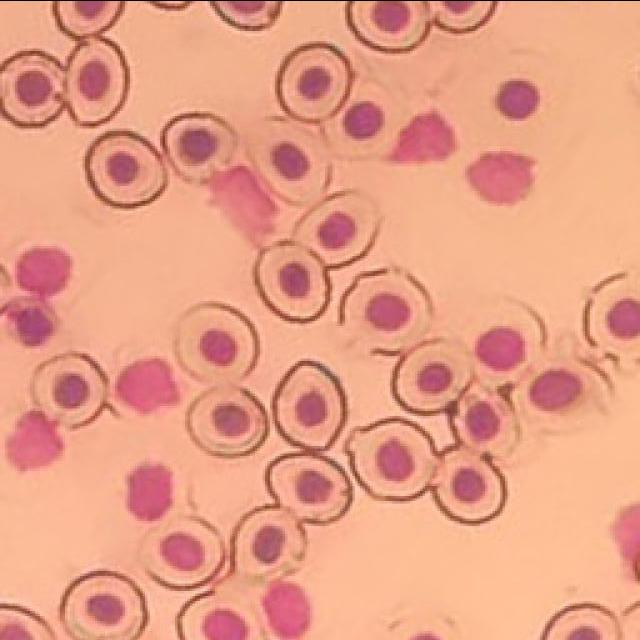RBC: (458, 48, 562, 148), (341, 268, 432, 350), (347, 419, 439, 500), (249, 119, 330, 204), (294, 190, 381, 268), (469, 299, 546, 386), (519, 358, 612, 430), (176, 302, 259, 380), (274, 360, 346, 449), (87, 130, 168, 208), (322, 80, 402, 158), (61, 570, 149, 640), (256, 240, 331, 321), (142, 516, 225, 589), (278, 42, 352, 121), (32, 352, 108, 428), (268, 454, 352, 522), (394, 339, 472, 412), (434, 446, 506, 524), (65, 38, 129, 125), (189, 388, 269, 456), (234, 506, 306, 579), (162, 112, 238, 181), (0, 50, 65, 126), (452, 382, 518, 455), (585, 272, 640, 356), (179, 591, 268, 640), (348, 0, 430, 51), (543, 602, 621, 640), (54, 0, 125, 36), (430, 0, 499, 32), (211, 0, 282, 29), (1, 602, 55, 640)
WBC: (468, 151, 535, 202), (117, 358, 180, 412), (8, 410, 64, 470), (391, 111, 456, 162), (263, 581, 311, 638), (18, 248, 71, 298), (6, 298, 56, 346), (129, 464, 172, 519), (613, 503, 640, 580)
